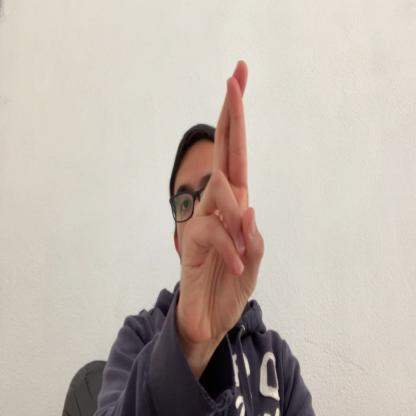R: (179, 59, 263, 345)
